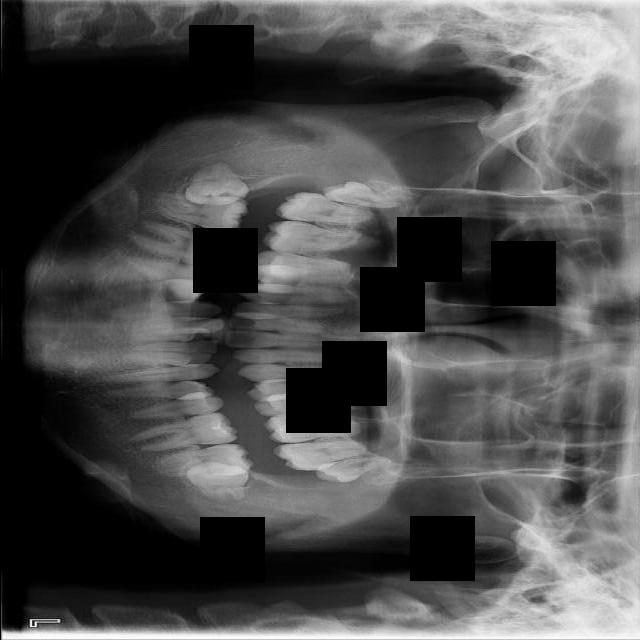3M ESPE Implant: (318, 176, 401, 213)
52: (182, 406, 239, 452), (261, 411, 312, 447)
73: (16, 620, 24, 630)
BioHorizons Implant: (270, 438, 383, 473)
BioLife Implant: (313, 454, 392, 487)
Biomet 3i Implant: (180, 457, 250, 507)
Blue Sky Bio Implant: (153, 443, 254, 478)
Caries: (273, 189, 383, 230)
Implant: (146, 190, 250, 235)
Keystone Dental Implant: (179, 158, 250, 213)
